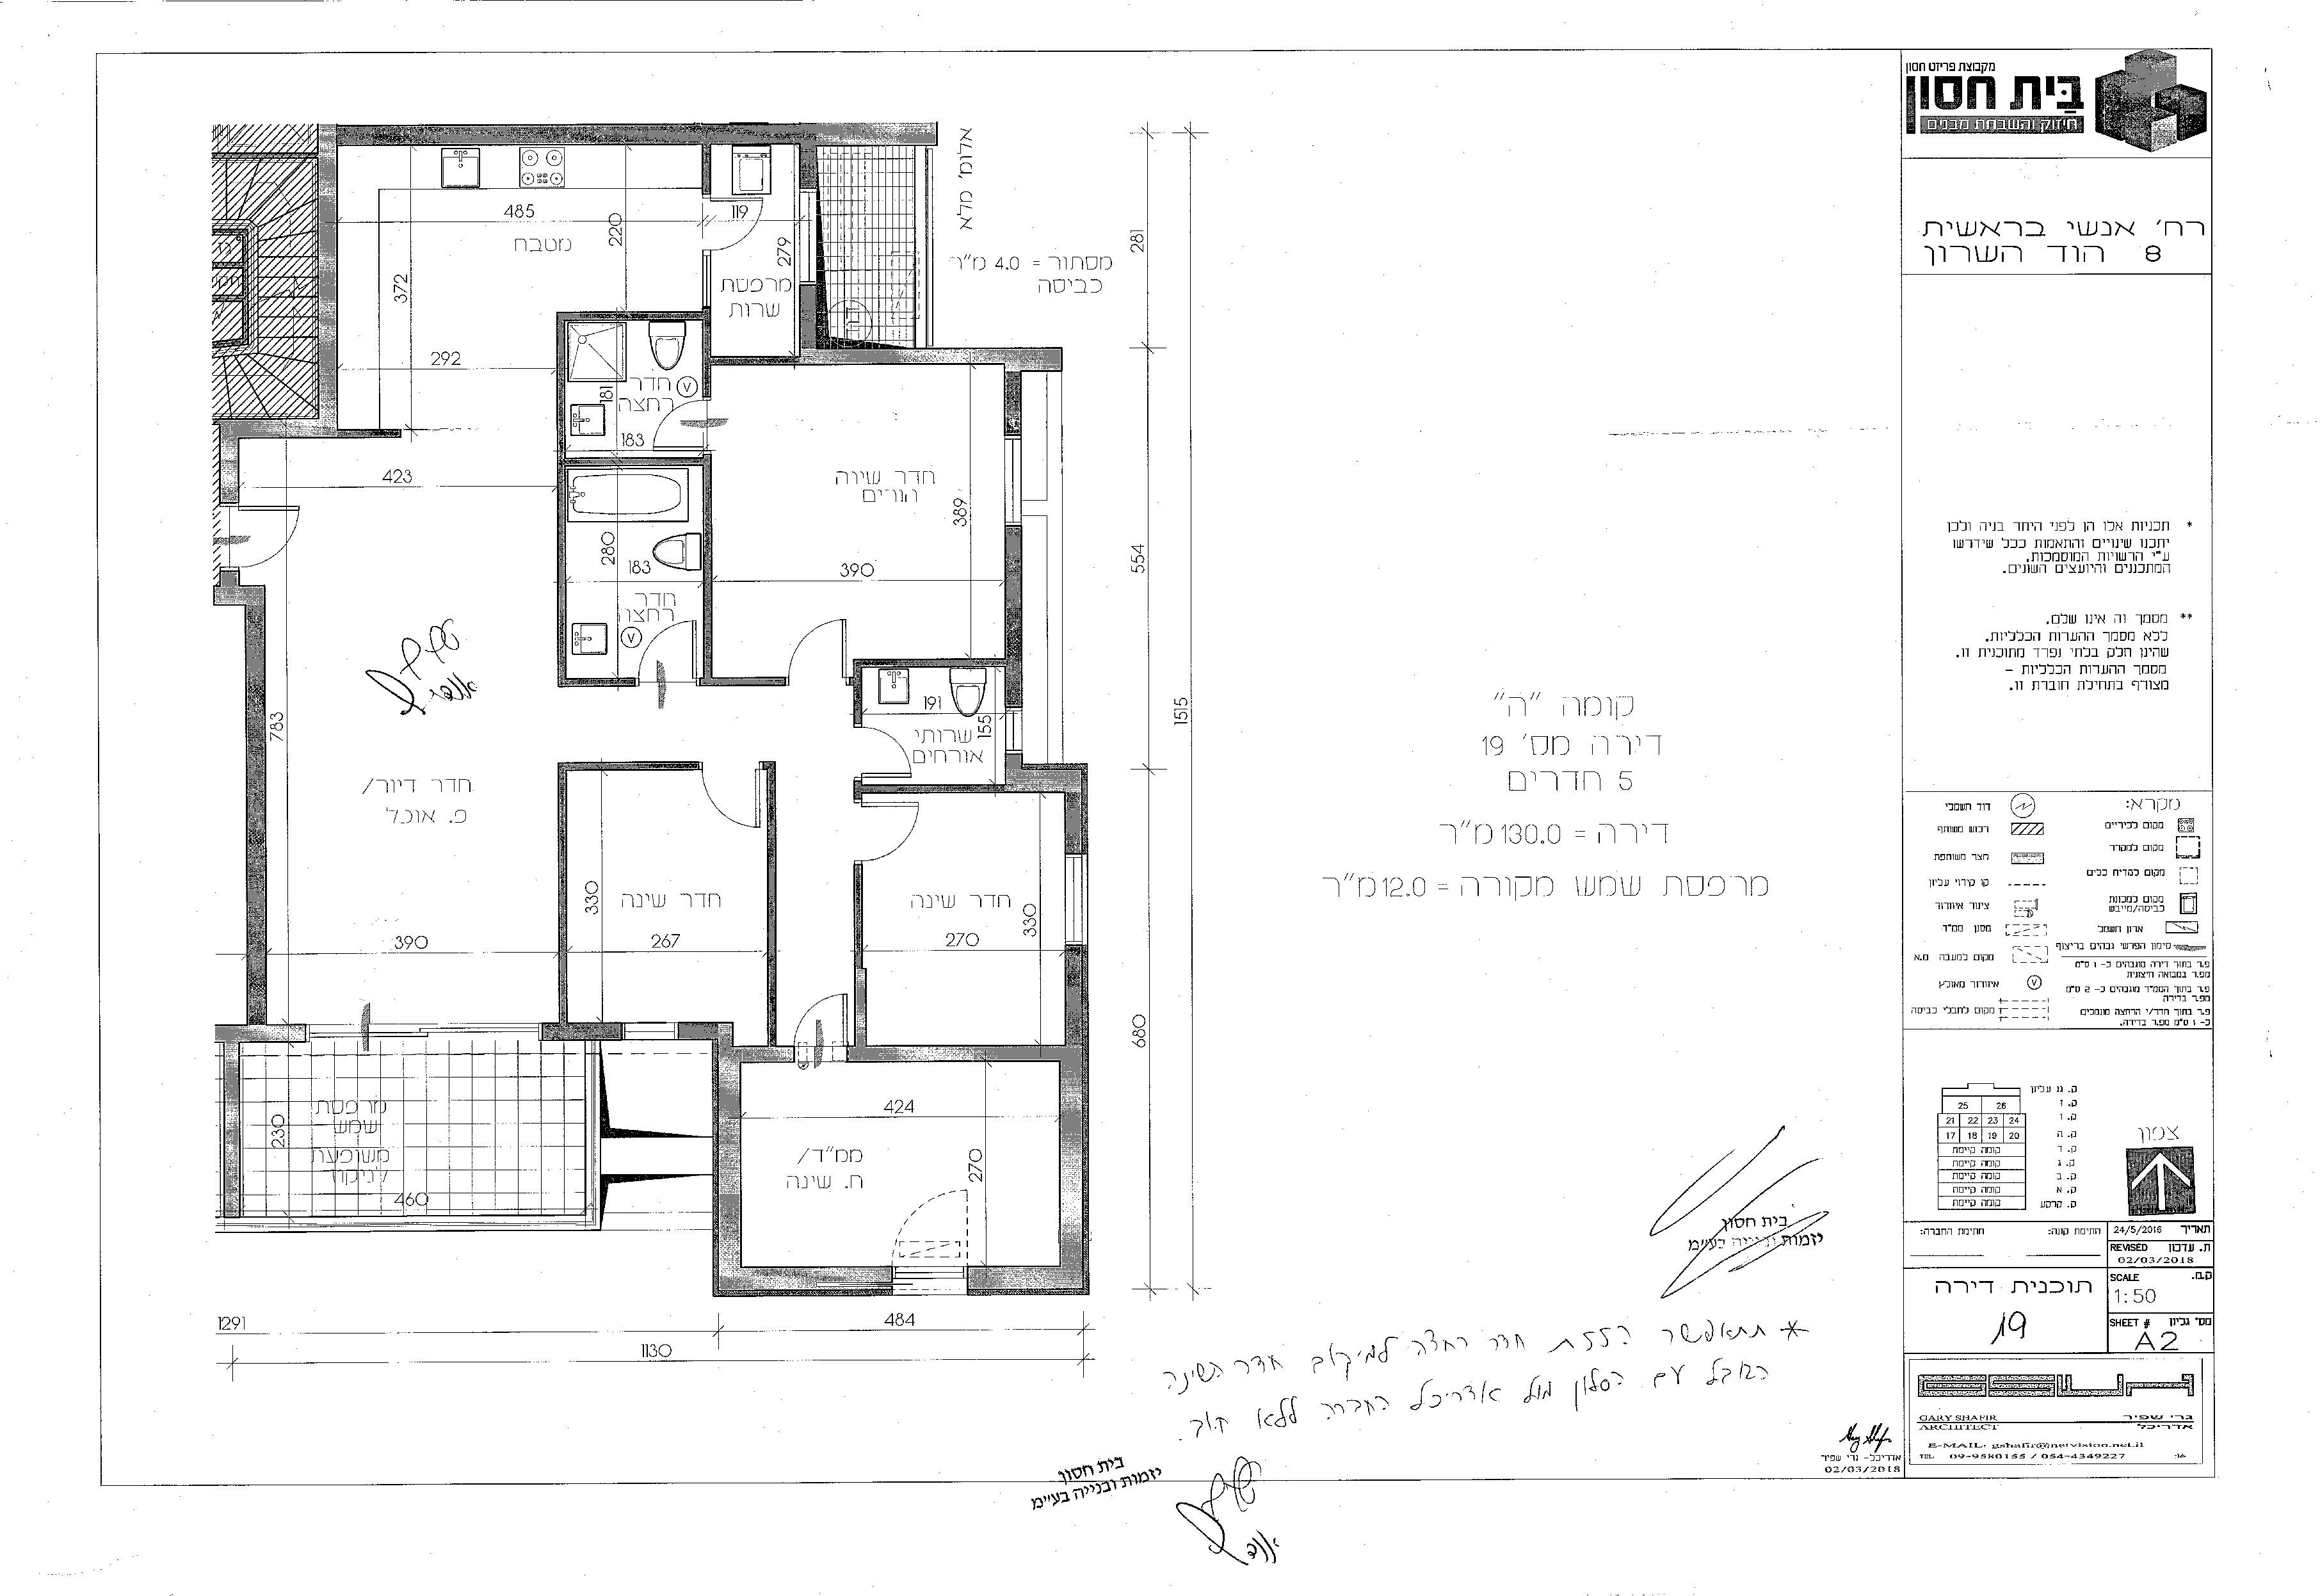door: (783, 603, 850, 675), (871, 795, 936, 868), (702, 781, 767, 836), (869, 723, 918, 781)
wall: (346, 125, 931, 141), (247, 635, 263, 1026), (991, 1220, 1082, 1287), (319, 125, 338, 434), (718, 1051, 739, 1293), (1003, 524, 1026, 711), (213, 570, 271, 623), (541, 1023, 622, 1040)
window: (1003, 434, 1022, 524), (1065, 854, 1082, 943), (622, 1021, 679, 1037)
